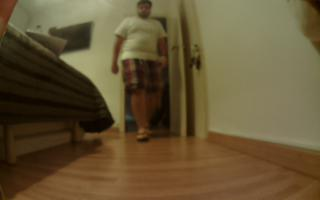person: (108, 1, 174, 144)
